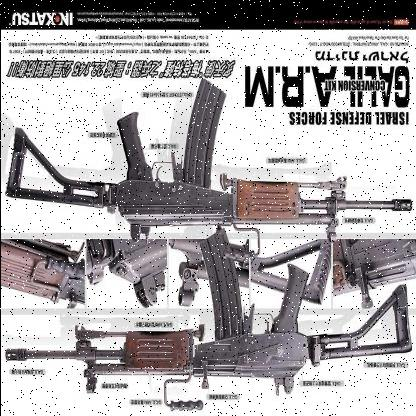rifle: (2, 213, 413, 416), (5, 75, 416, 249)
